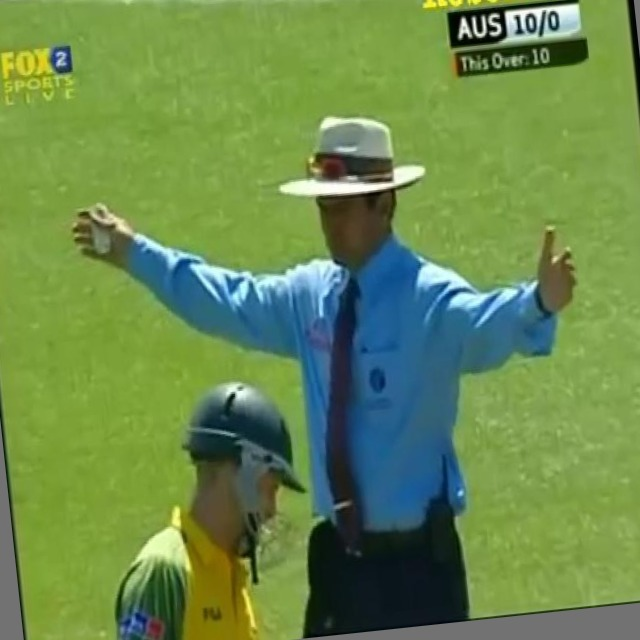Wide: (54, 85, 618, 640)
